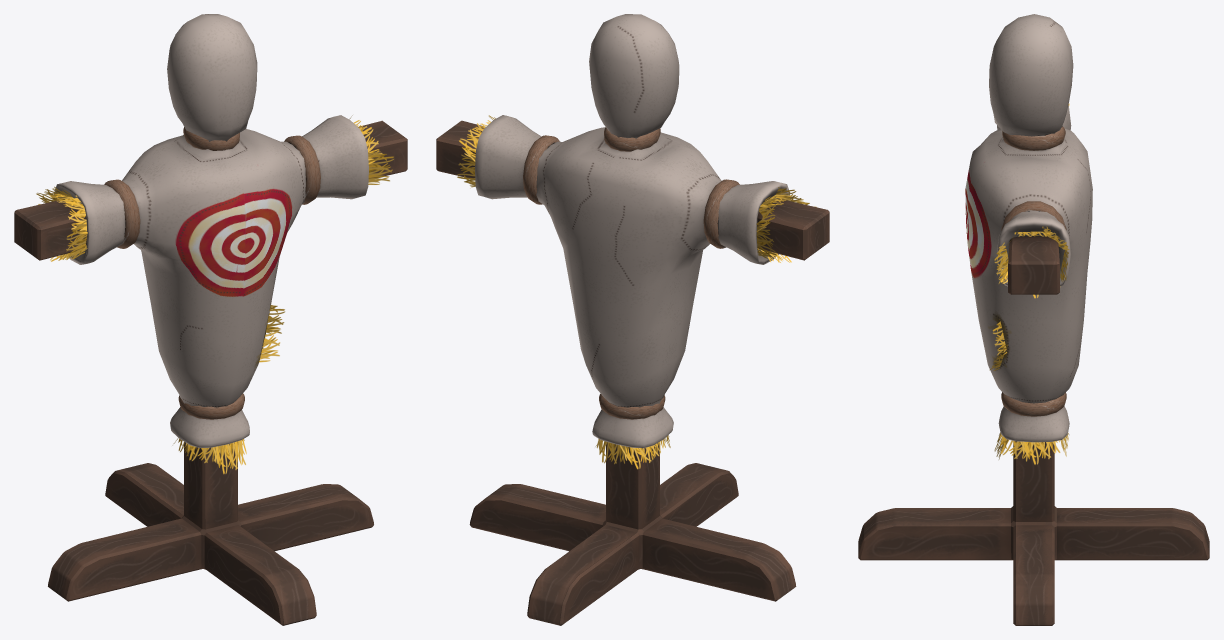
The model's file is training_dummy.glb.
3 views of the same model, side by side, from view 1: azimuth 30°, elevation 25°; view 2: azimuth 150°, elevation 25°; view 3: azimuth 270°, elevation 25° (orthographic).
Visible parts, largest first — view 1: pTorus6, pPlane3 (×2); view 2: pTorus6; view 3: pTorus6, pPlane6.
Part boxes in pixels (x1=…): pTorus6: x1=14, y1=14, x2=407, y2=625; pPlane3 (×2): x1=213, y1=151, x2=393, y2=474; pTorus6: x1=436, y1=14, x2=829, y2=625; pTorus6: x1=858, y1=14, x2=1209, y2=625; pPlane6: x1=1020, y1=440, x2=1060, y2=464.
Bounding box in the file's own units: 10.3 × 14.36 × 8.57.
2 materials, 2 textured.
